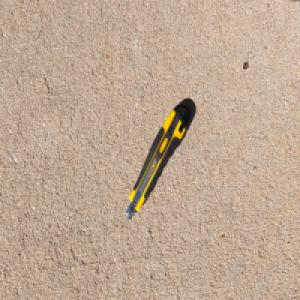Cutter: (124, 102, 191, 221)
